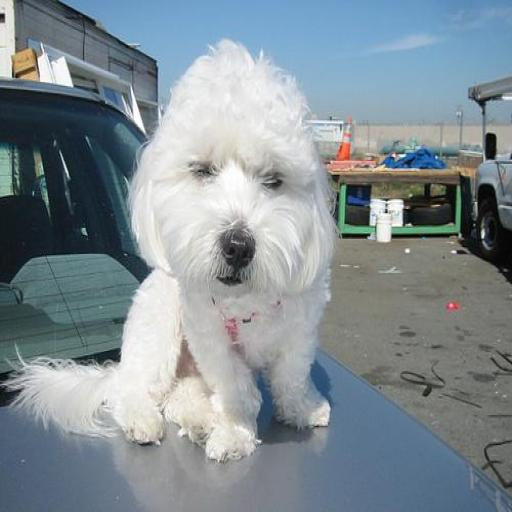dog_face: (123, 48, 324, 295)
